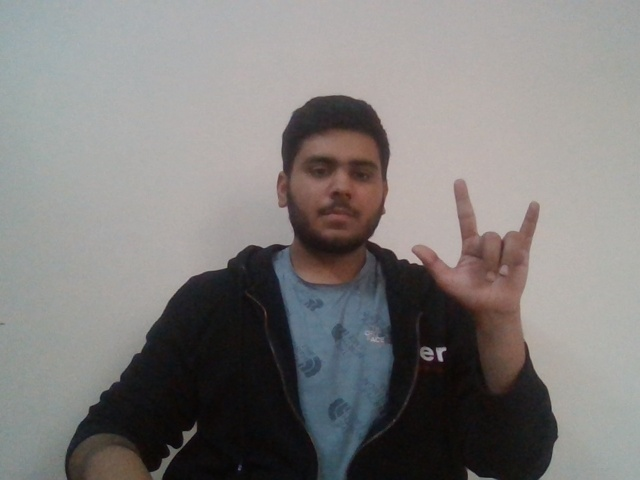IloveYou: (402, 171, 555, 309)
